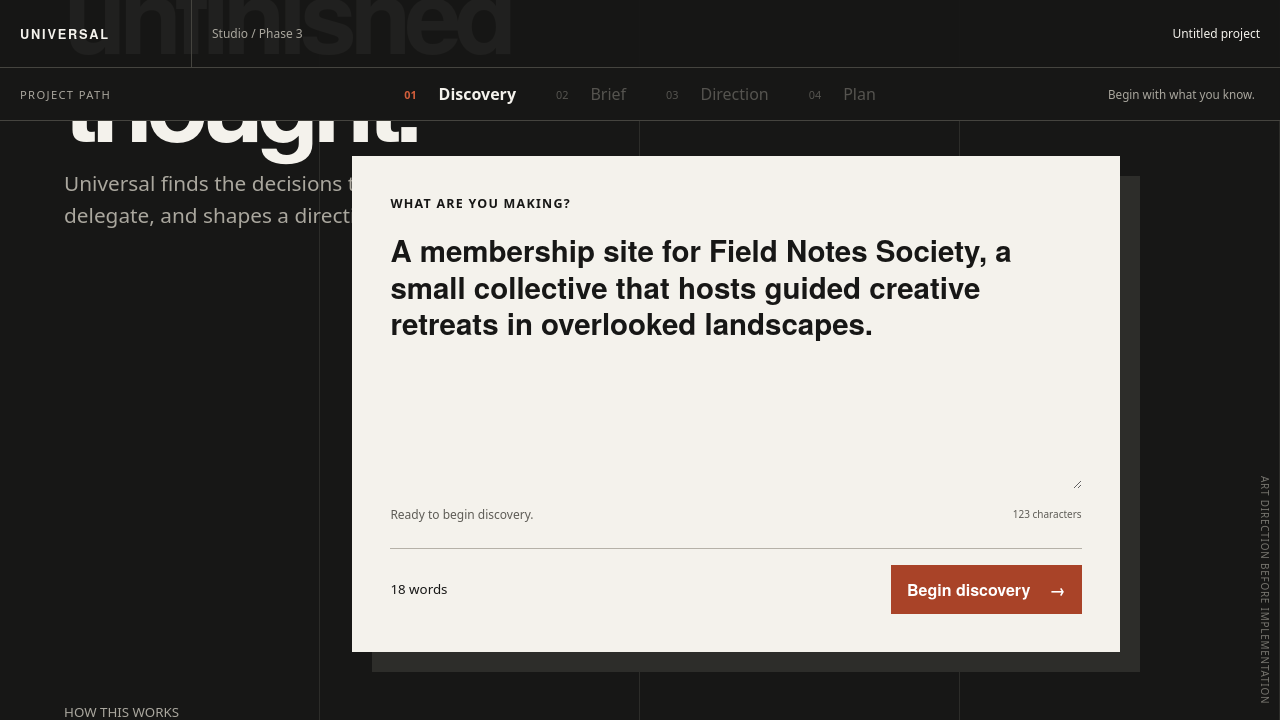
Test case: stage 2: discovery answer modes and provenance › delegating a question replaces the answer field with the delegation it implies
(page scrolled)
Replace the text in the text box labelled "What are you making?" with "A membership site for a small collective that runs guided creative retreats in overlooked coastal towns.": (736, 361) [390,232,1082,489]
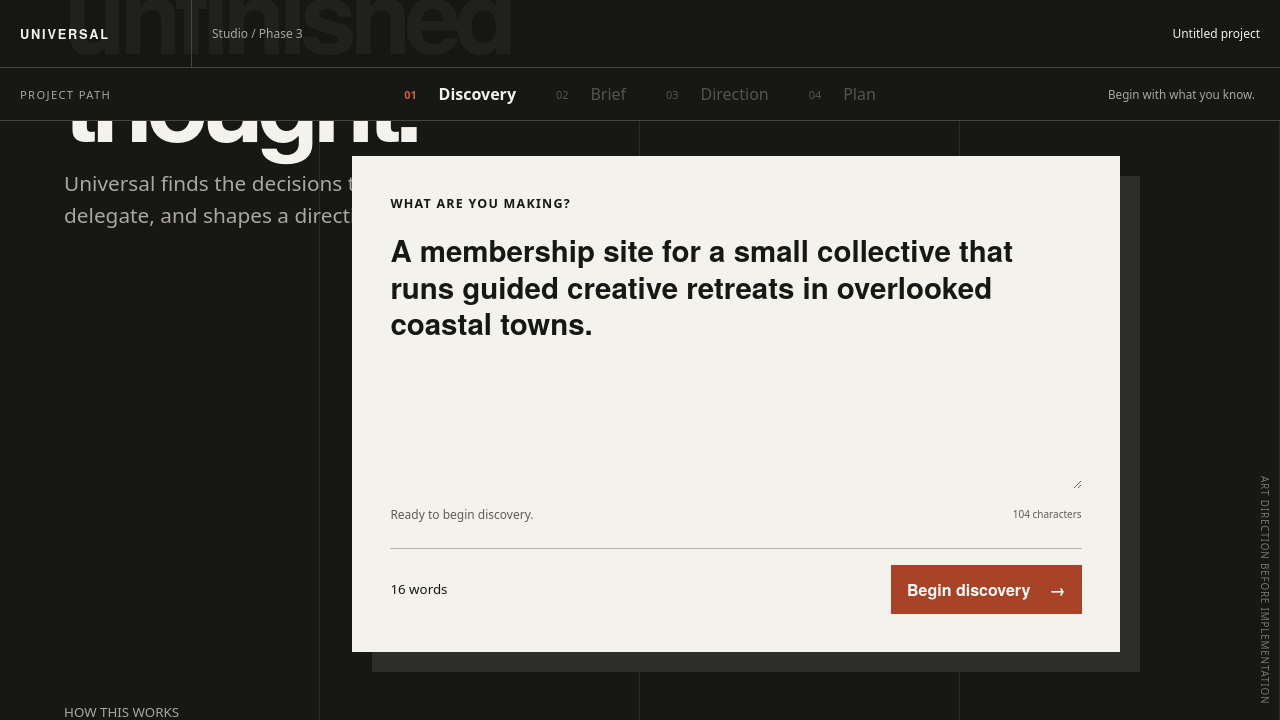
Click the button "Begin discovery →": (986, 589) [891,565,1082,614]
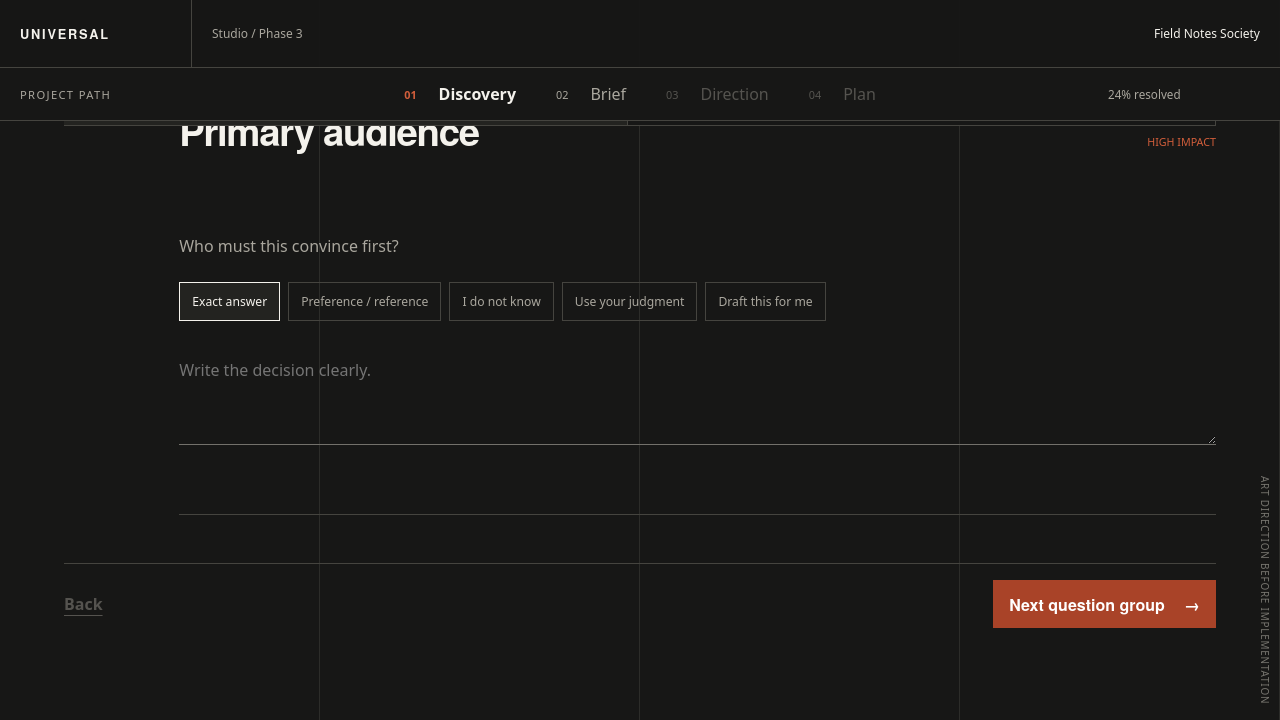
Expected: the text box named "Answer for Primary audience" is shown, [179,345,1216,445]
Click the radio button labelled "Use your judgment": (630, 302) [562,282,698,321]
(page scrolled)
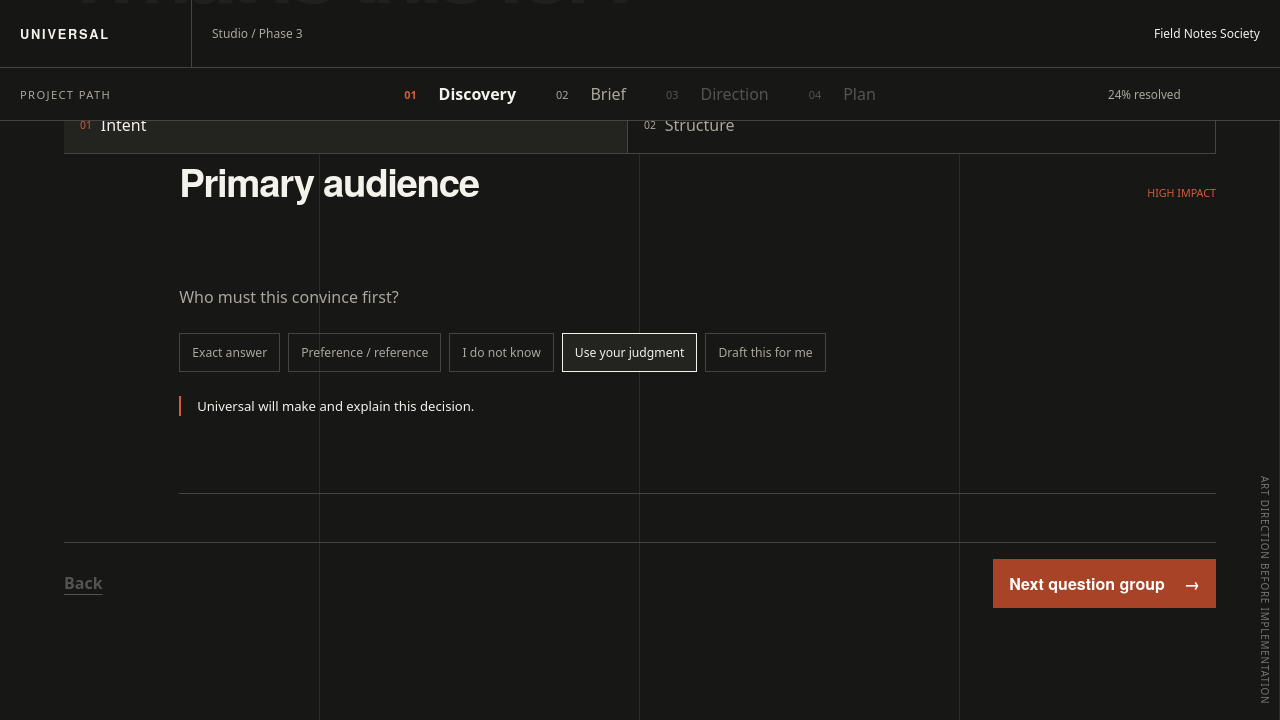
Expected: the radio button labelled "Use your judgment" is checked, [562,333,698,372]
Expected: the text "Universal will make and explain this decision." is shown, [179,396,867,416]
